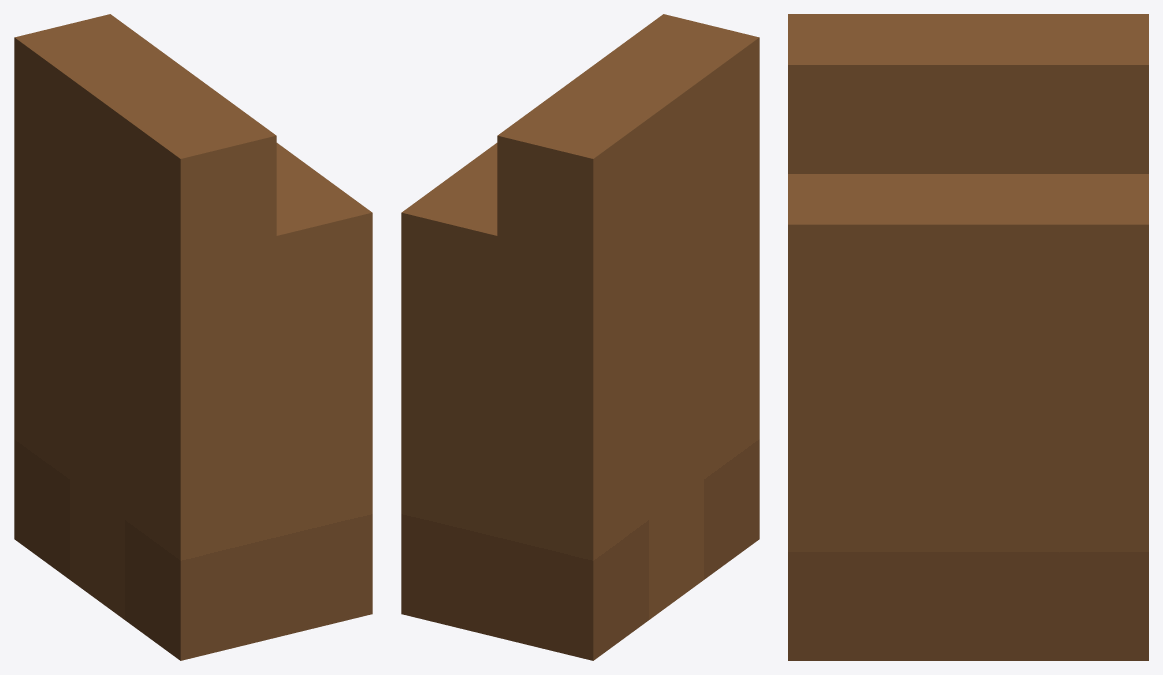
File: player_arm_right.dae
3 views of the same model, side by side, from view 1: azimuth 30°, elevation 25°; view 2: azimuth 150°, elevation 25°; view 3: azimuth 270°, elevation 25° (orthographic). The views are drawn at different scales.
Visible parts, largest first — view 1: player_arm_right; view 2: player_arm_right; view 3: player_arm_right.
Boxes of the visible parts, x1=… form: player_arm_right: x1=14, y1=14, x2=372, y2=660; player_arm_right: x1=401, y1=14, x2=759, y2=660; player_arm_right: x1=788, y1=14, x2=1148, y2=660.
Size of the model in its own units: 0.2 by 0.3 by 0.5.
1 material, 1 textured.
